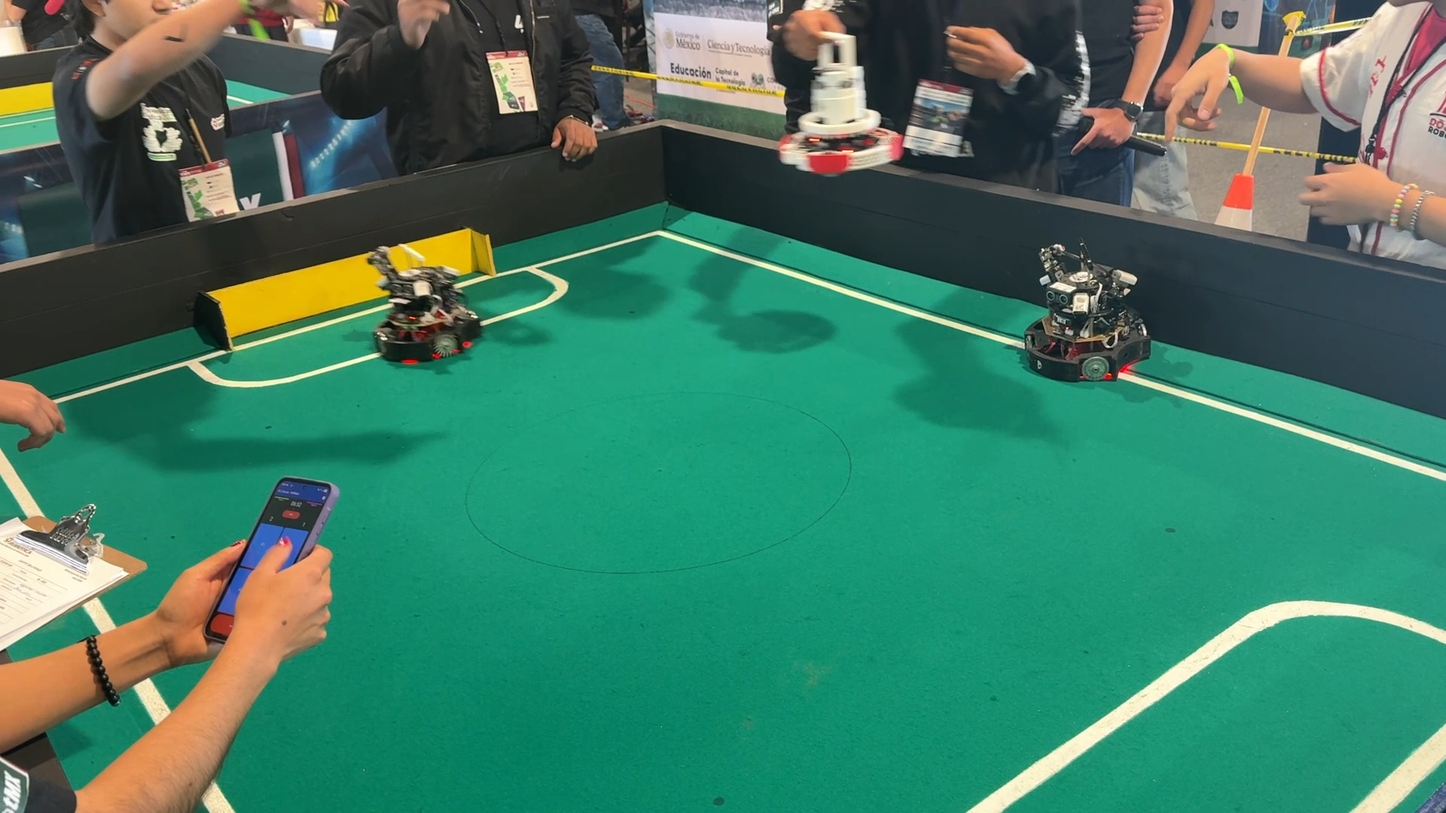Robot: (994, 235, 1174, 402), (342, 239, 494, 380)
